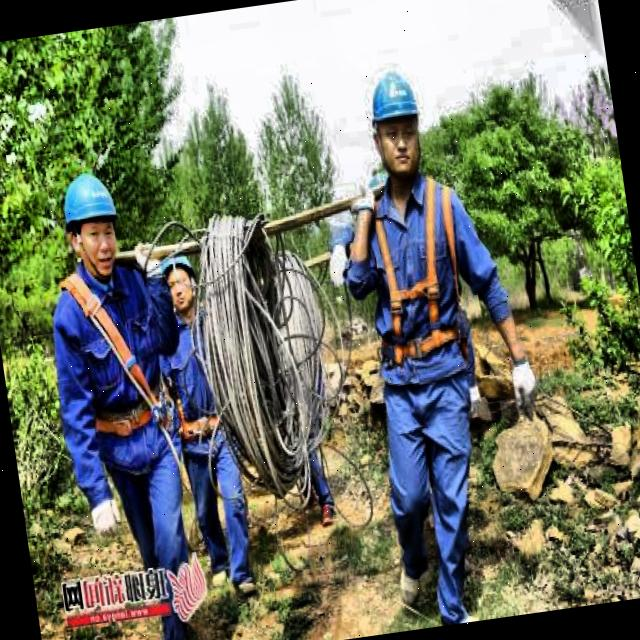helmet: (359, 61, 435, 191), (52, 162, 131, 281), (154, 244, 201, 314)
